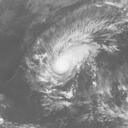cyclone: (26, 26, 97, 92)
